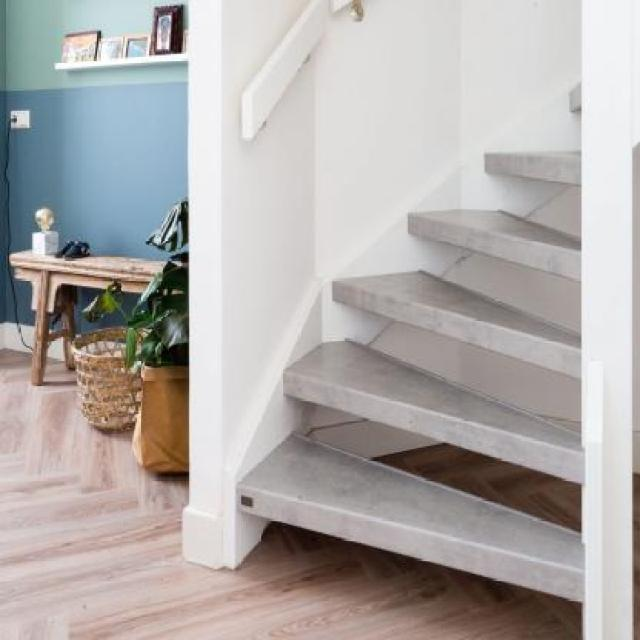stair: (200, 35, 638, 616)
